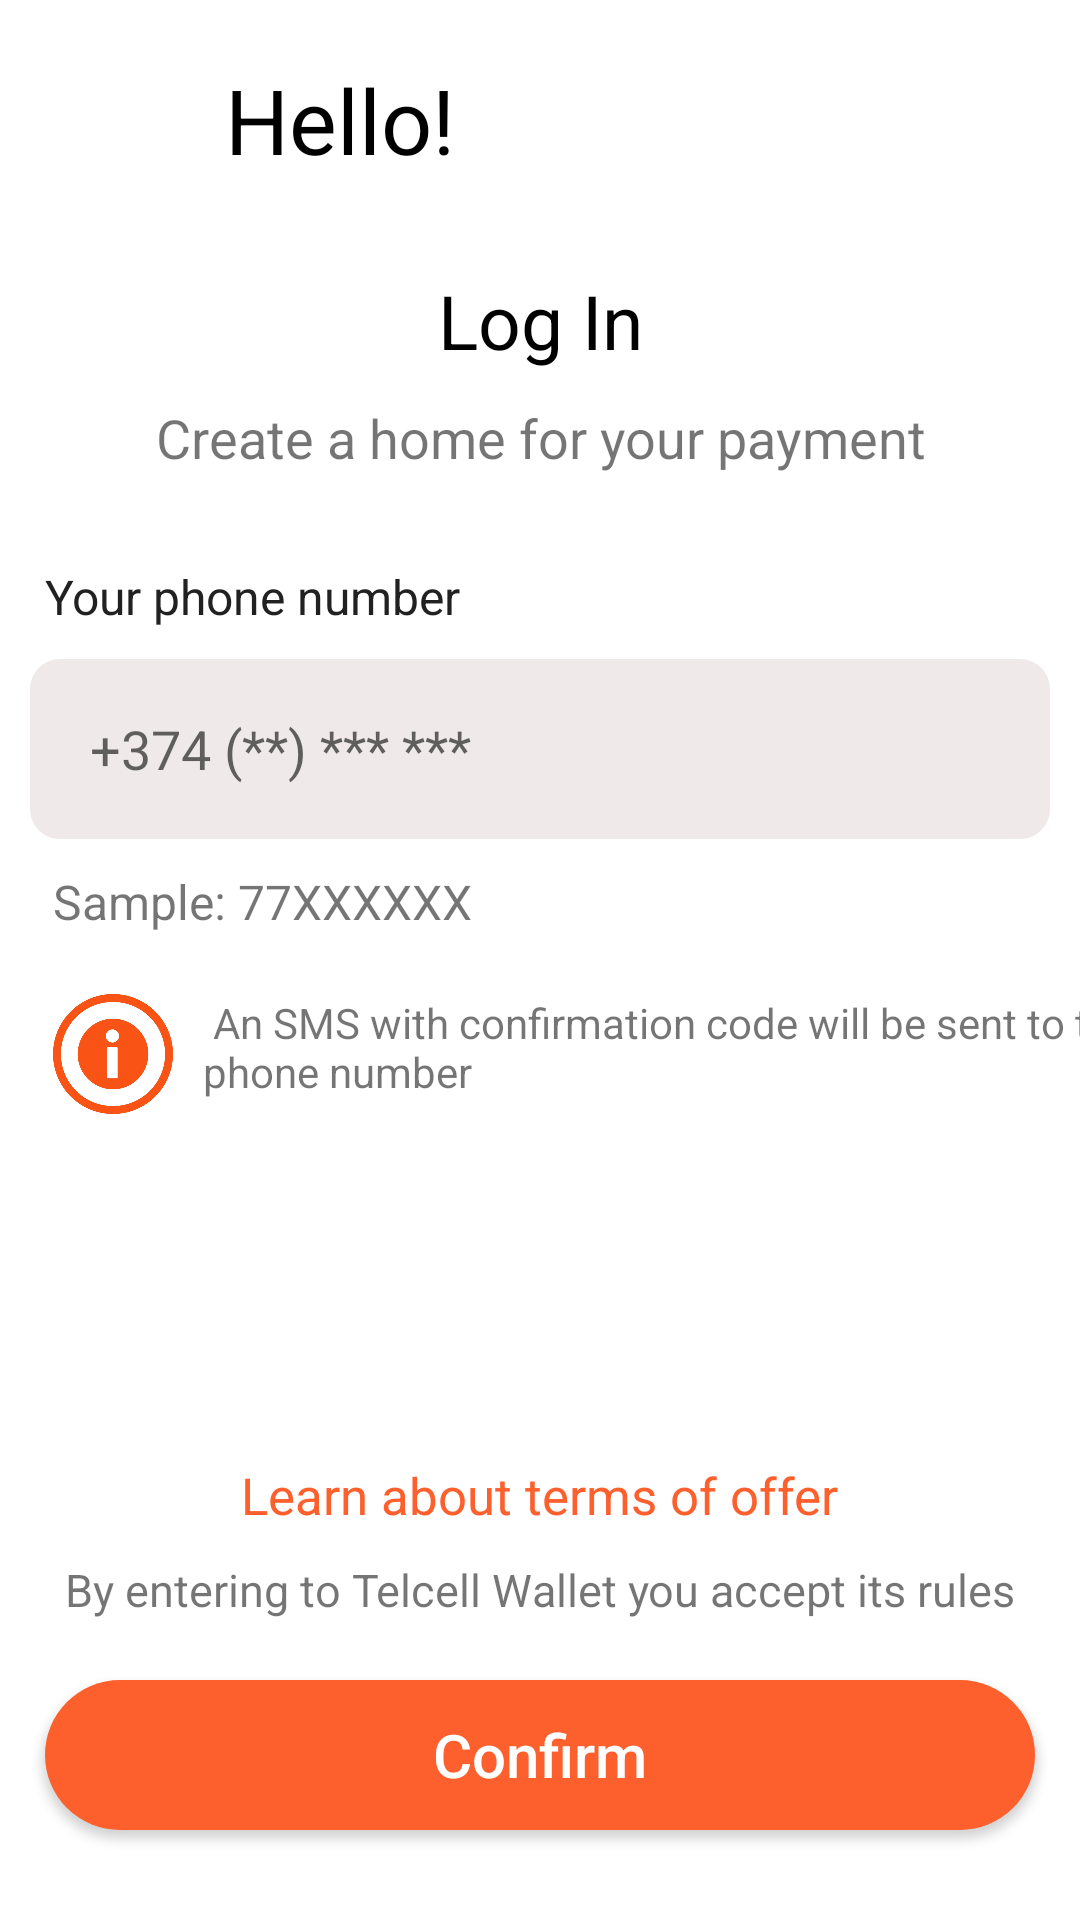

Named icons in this screenshot (1080px x 1920px) and their bounding boxes, bbox=[x1, y1, x2, y2]:
info: bbox=[53, 994, 173, 1114]
